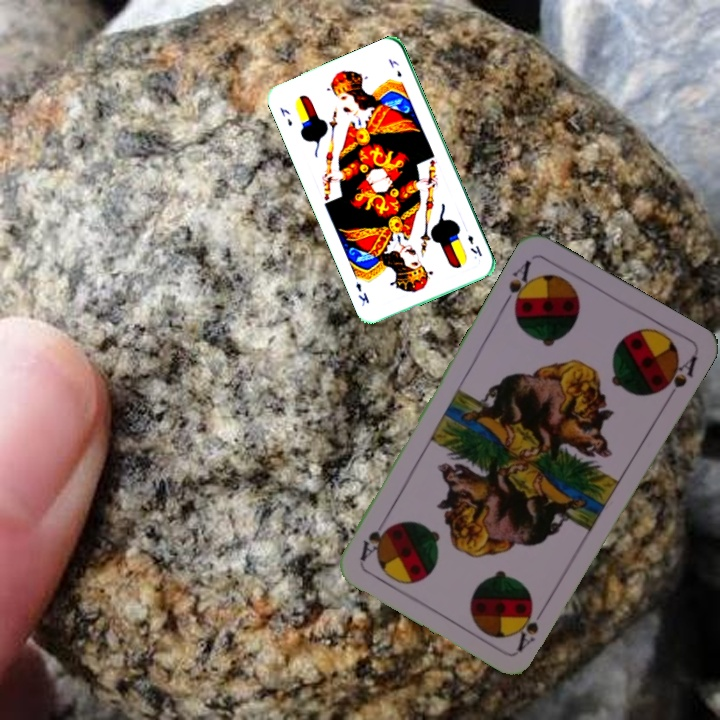EK: (463, 231, 485, 259), (276, 103, 295, 129)
SA: (499, 256, 538, 314), (513, 599, 550, 653)
